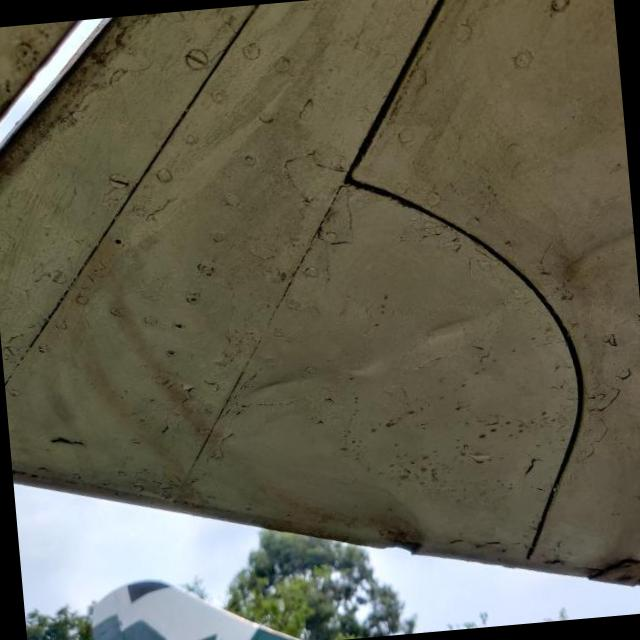Dent: (228, 331, 337, 424), (406, 303, 501, 371)
